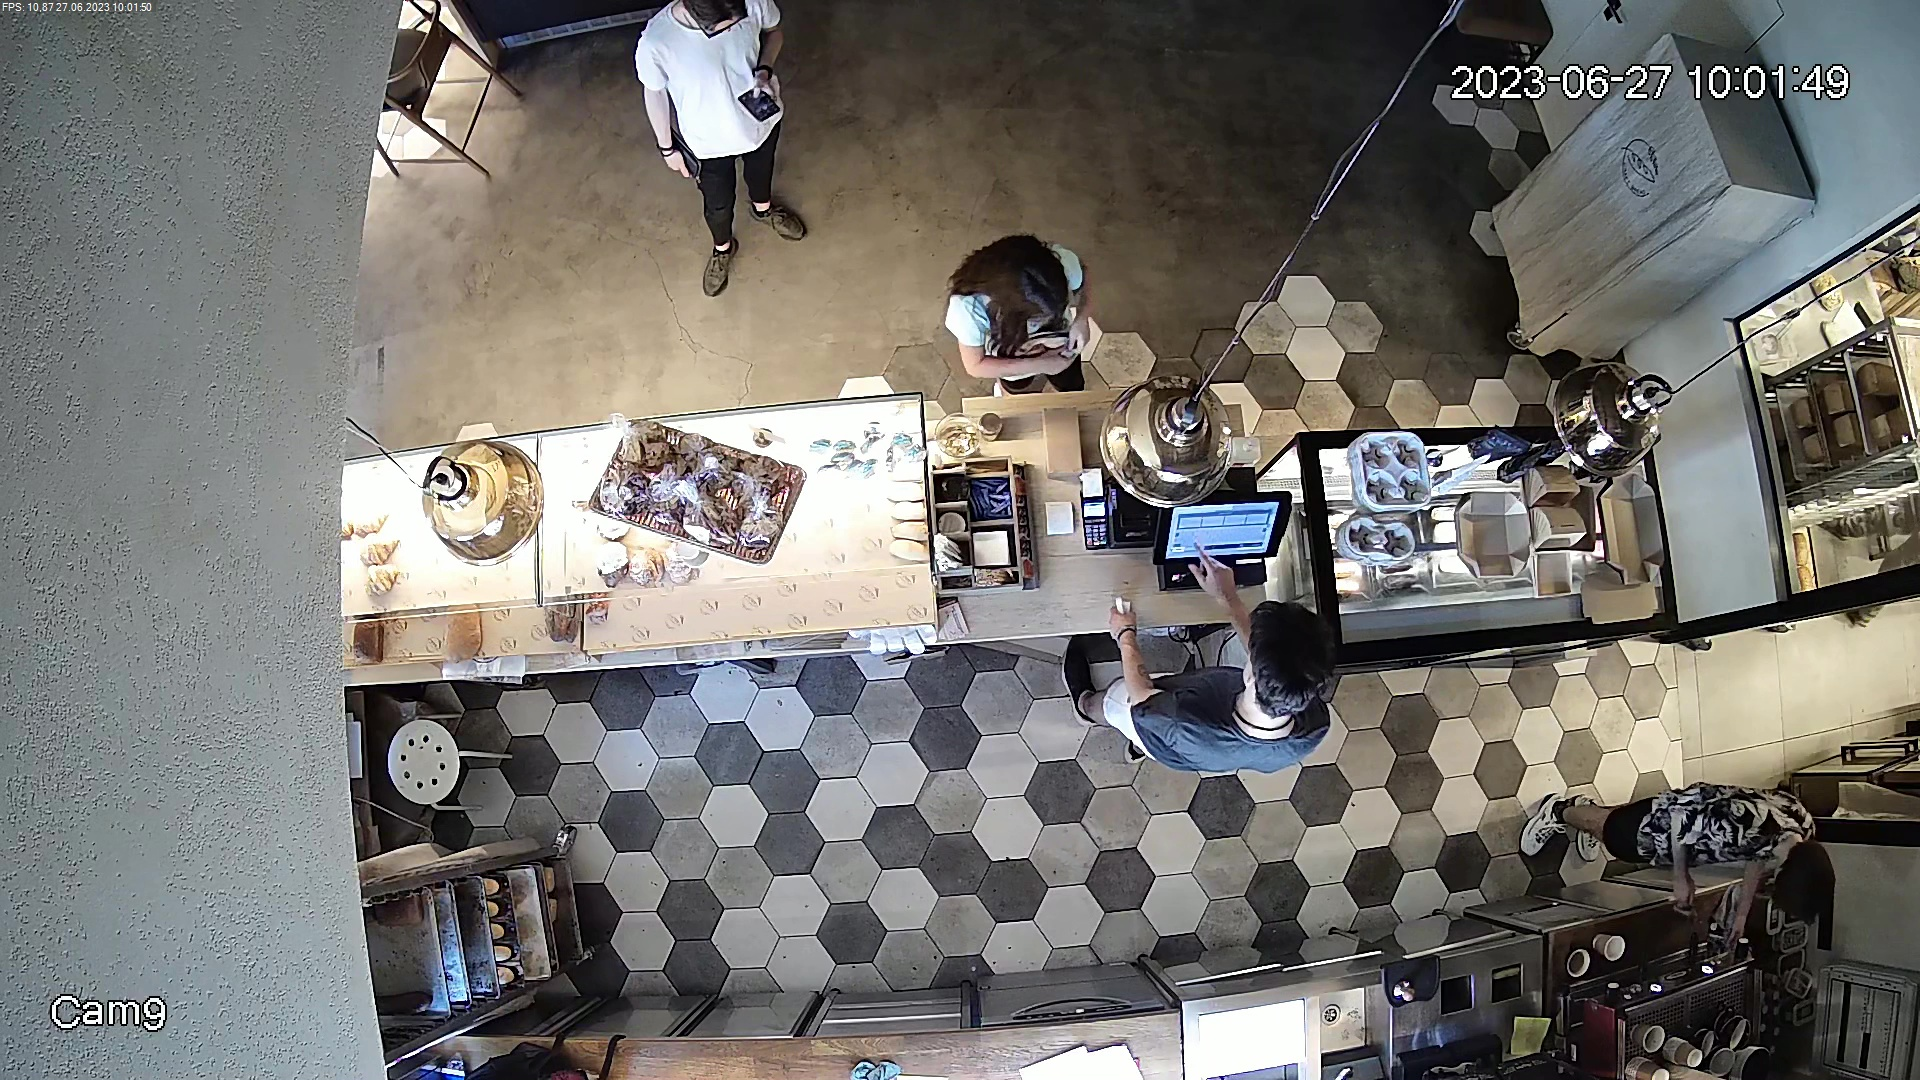barcounter: (352, 379, 1698, 672)
person: (1505, 730, 1839, 919), (942, 226, 1095, 399)
terminal: (1037, 400, 1086, 479)
